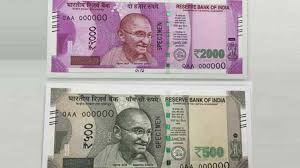fiveHundred: (60, 103, 230, 162)
